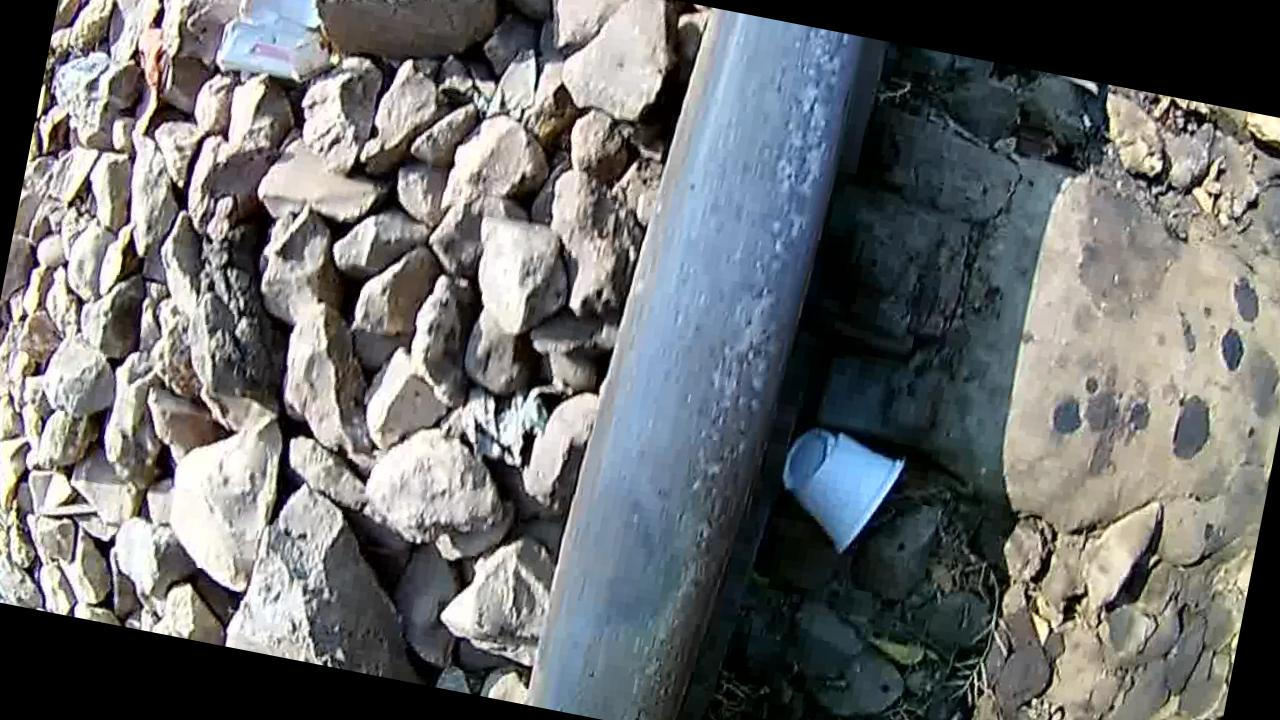bolt_missing: (518, 453, 747, 720)
